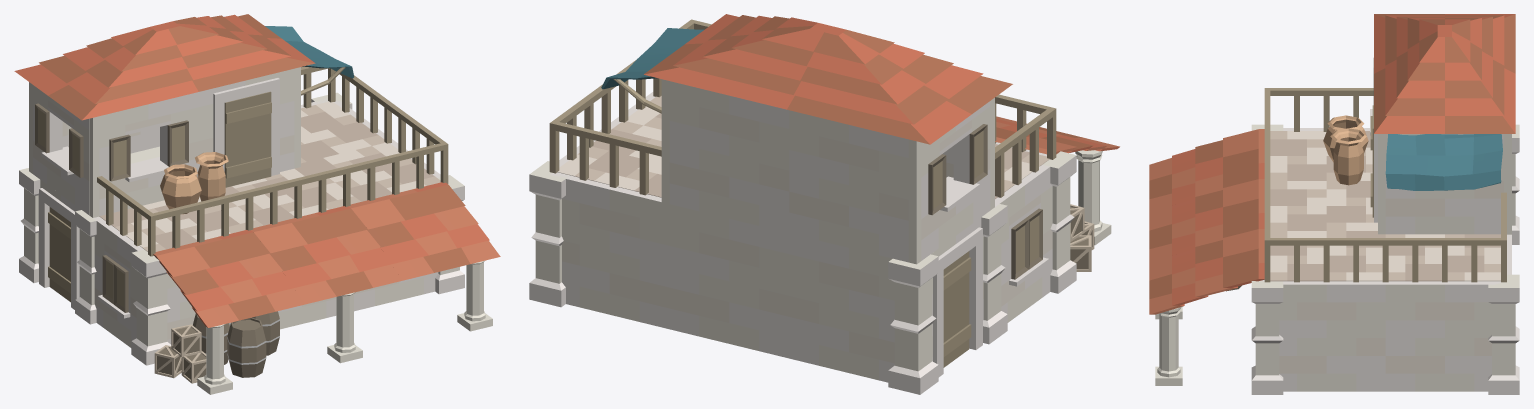
Rendered from casa.fbx.
The picture shows the model from 3 angles, left to right: view 1: azimuth 30°, elevation 25°; view 2: azimuth 150°, elevation 25°; view 3: azimuth 270°, elevation 25°; orthographic projection. The views are drawn at different scales.
Parts seen in each view (by area): view 1: roman_roof_tile_square_12, roman_roof_tile_slanted_20, roman_roof_tile_slanted_59, roman_roof_tile_slanted_58, roman_wall_window_4_24, roman_wall_door_4_43, roman_door_2_68, roman_wall_window_4_1, roman_floor_3_45, roman_wall_column_3_21, roman_wall_window_4_2, roman_floor_3_23 (+37 smaller); view 2: roman_roof_tile_square_12, roman_wall_4_39, roman_wall_4_36, roman_wall_4_40, roman_wall_4_32, roman_wall_4_41, roman_wall_window_4_1, roman_wall_column_3_55, roman_wall_window_4_2, roman_wall_column_3_56, roman_wall_door_4_25, roman_floor_3_23 (+21 smaller); view 3: roman_roof_tile_square_12, roman_wall_4_42, roman_wall_4_33, Cylinder.013_15, roman_roof_tile_slanted_59, roman_roof_tile_slanted_20, roman_roof_tile_slanted_58, roman_wall_4_37, roman_floor_3_44, roman_floor_3_45, roman_floor_3_23, roman_floor_3_46 (+16 smaller).
Boxes of the visible parts, <box> form: roman_roof_tile_square_12: <box>14,14,315,120</box>; roman_roof_tile_slanted_20: <box>153,230,305,327</box>; roman_roof_tile_slanted_59: <box>349,182,500,280</box>; roman_roof_tile_slanted_58: <box>251,206,402,304</box>; roman_wall_window_4_24: <box>99,92,196,215</box>; roman_wall_door_4_43: <box>197,69,294,177</box>; roman_door_2_68: <box>224,91,271,187</box>; roman_wall_window_4_1: <box>33,85,89,214</box>; roman_floor_3_45: <box>295,142,440,204</box>; roman_wall_column_3_21: <box>131,249,171,365</box>; roman_wall_window_4_2: <box>93,216,143,347</box>; roman_floor_3_23: <box>301,101,384,163</box>; roman_roof_tile_square_12: <box>644,14,1012,144</box>; roman_wall_4_39: <box>669,204,789,358</box>; roman_wall_4_36: <box>669,81,789,233</box>; roman_wall_4_40: <box>789,110,908,262</box>; roman_wall_4_32: <box>550,172,669,329</box>; roman_wall_4_41: <box>789,233,894,382</box>; roman_wall_window_4_1: <box>921,101,990,260</box>; roman_wall_column_3_55: <box>888,254,938,394</box>; roman_wall_window_4_2: <box>995,165,1052,322</box>; roman_wall_column_3_56: <box>529,161,568,307</box>; roman_wall_door_4_25: <box>931,217,983,377</box>; roman_floor_3_23: <box>558,121,661,197</box>; roman_roof_tile_square_12: <box>1374,14,1515,133</box>; roman_wall_4_42: <box>1385,281,1501,391</box>; roman_wall_4_33: <box>1279,281,1385,391</box>; Cylinder.013_15: <box>1385,134,1502,190</box>; roman_roof_tile_slanted_59: <box>1149,229,1264,314</box>; roman_roof_tile_slanted_20: <box>1149,129,1264,214</box>; roman_roof_tile_slanted_58: <box>1149,179,1264,264</box>; roman_wall_4_37: <box>1385,134,1503,234</box>; roman_floor_3_44: <box>1270,181,1377,230</box>; roman_floor_3_45: <box>1270,231,1385,281</box>; roman_floor_3_23: <box>1385,234,1500,281</box>; roman_floor_3_46: <box>1270,131,1372,180</box>.
Size of the model in its own units: 1000 by 725 by 940.
